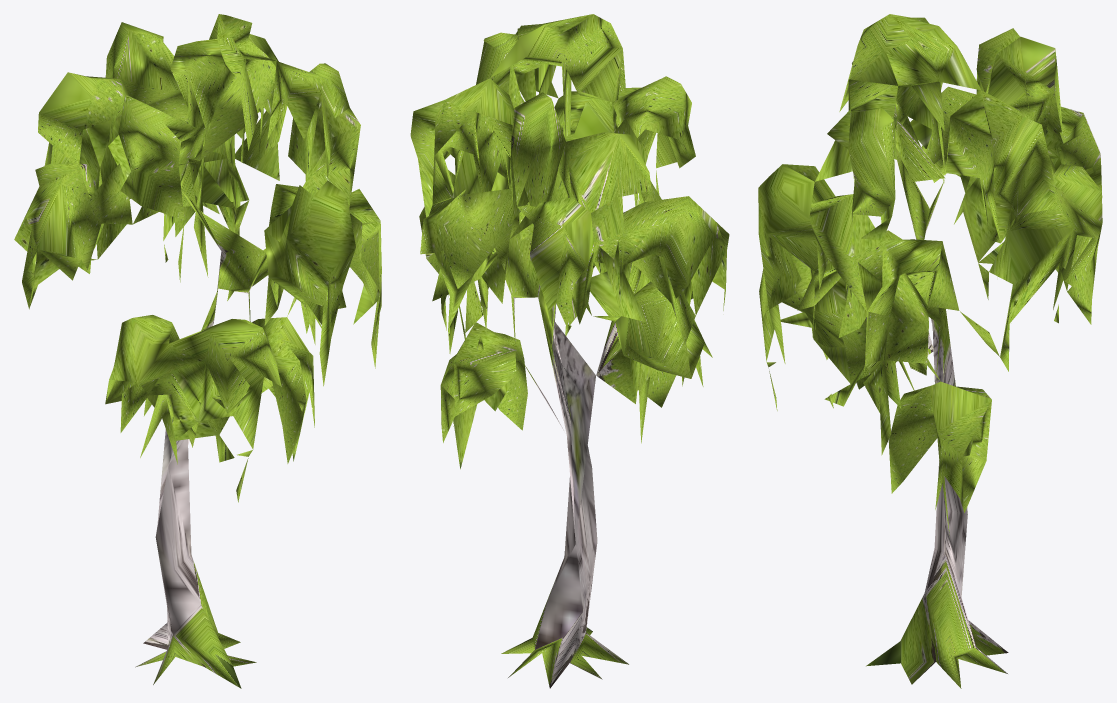
Rendered from birch_far.glb.
3 renders of one model, left to right at view 1: azimuth 30°, elevation 25°; view 2: azimuth 150°, elevation 25°; view 3: azimuth 270°, elevation 25°, orthographic. The views are drawn at different scales.
Bounding box in the file's own units: 0.5 × 0.9517 × 0.459.
Materials: 1 (1 with a texture image).
